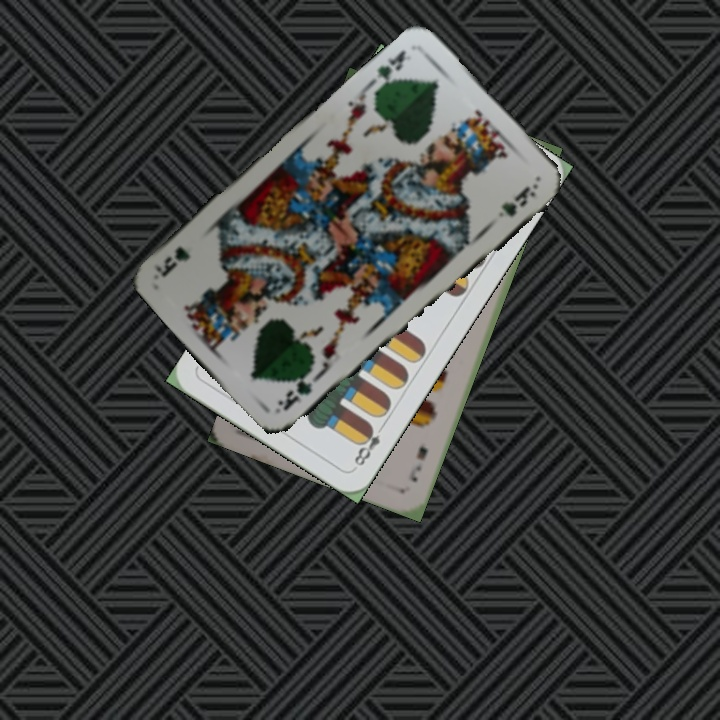E7: (405, 441, 431, 485)
E8: (350, 419, 388, 469)
GK: (272, 366, 316, 414), (373, 46, 409, 90)
